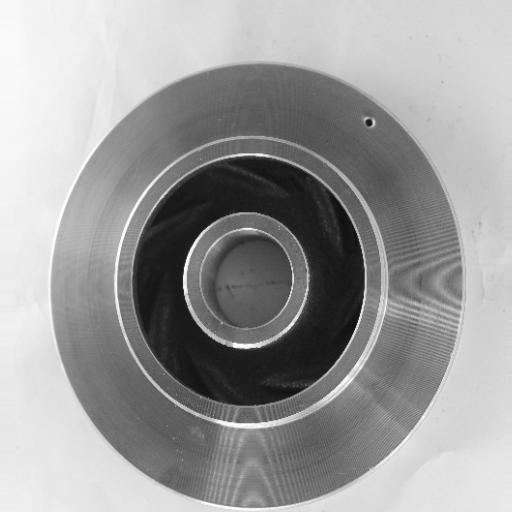pit: (357, 110, 379, 133)
unpolished_casting: (48, 60, 469, 512)
